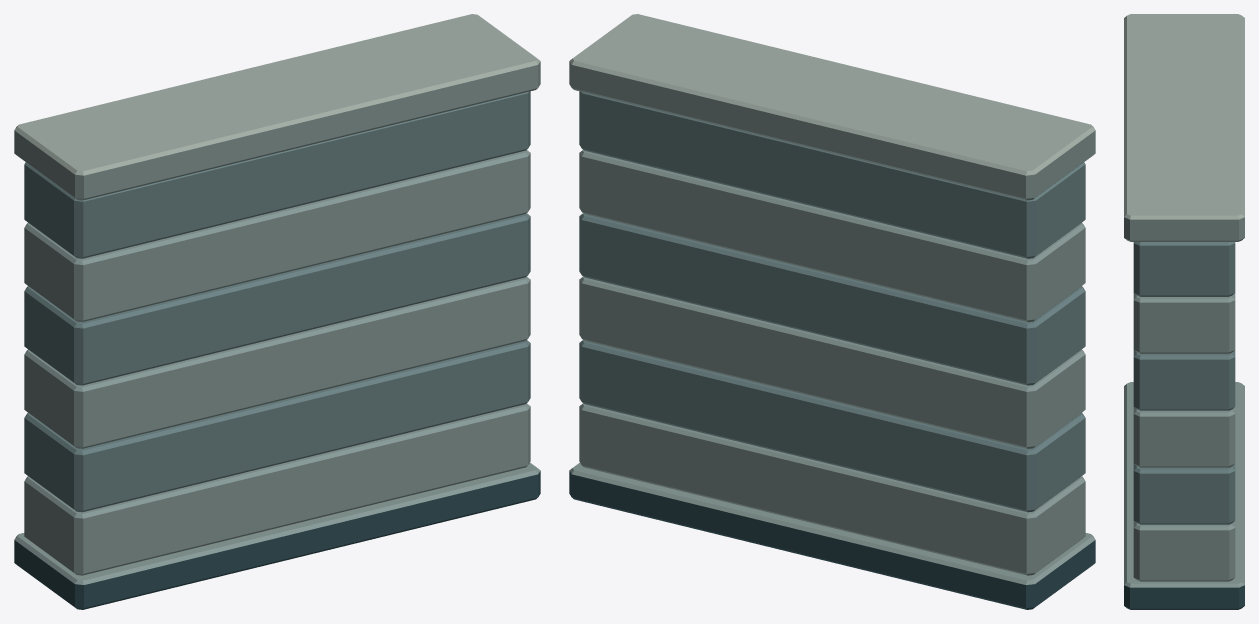
File: wall-tall.glb
3 renders of one model, left to right at view 1: azimuth 30°, elevation 25°; view 2: azimuth 150°, elevation 25°; view 3: azimuth 270°, elevation 25°, orthographic. The views are drawn at different scales.
Visible parts, largest first — view 1: wall-tall__body; view 2: wall-tall__body; view 3: wall-tall__body.
Boxes of the visible parts, x1,y1,x2,y2 form: wall-tall__body: (14,14,540,609); wall-tall__body: (569,14,1095,609); wall-tall__body: (1124,14,1244,609).
Size of the model in its own units: 2 by 1.8 by 0.5.
